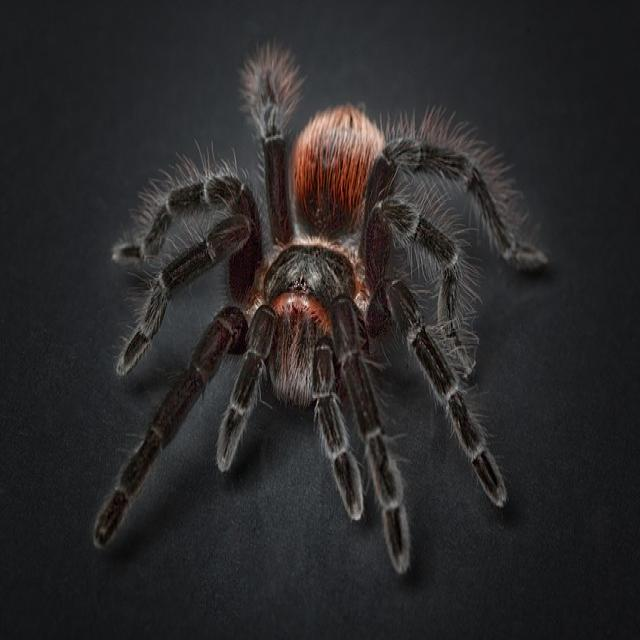spyder: (94, 45, 545, 573)
